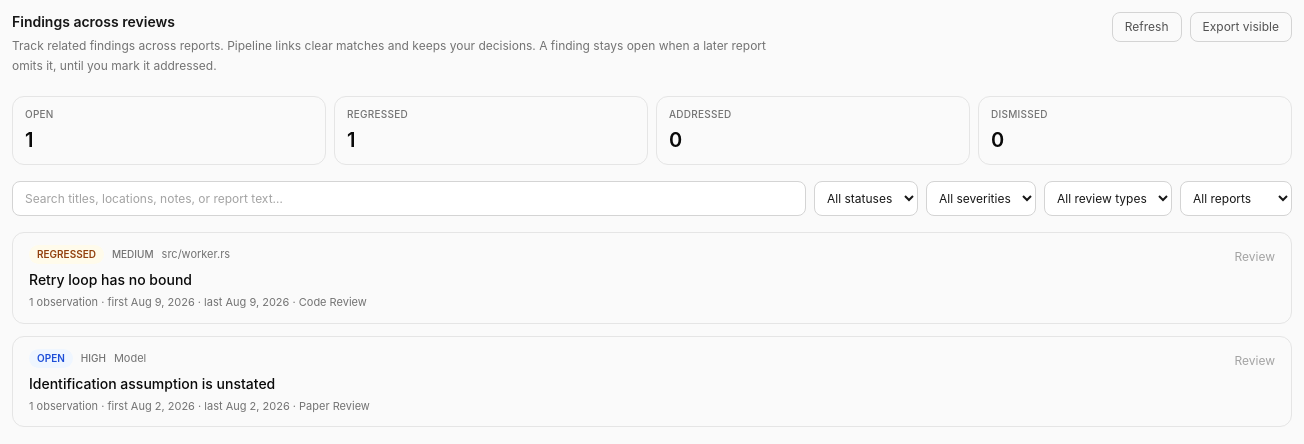
Test: ProjectIssueLedgerPanel › filters the ledger by workflow and revision
This screenshot has width=1304, height=444.
expect the heading "Identification assumption is unstated" is shown: met, box [29,374,275,392]
Select "Code Review" in the dropdown named "Issue review type filter" at [1108, 198], box [1044,181,1172,216]
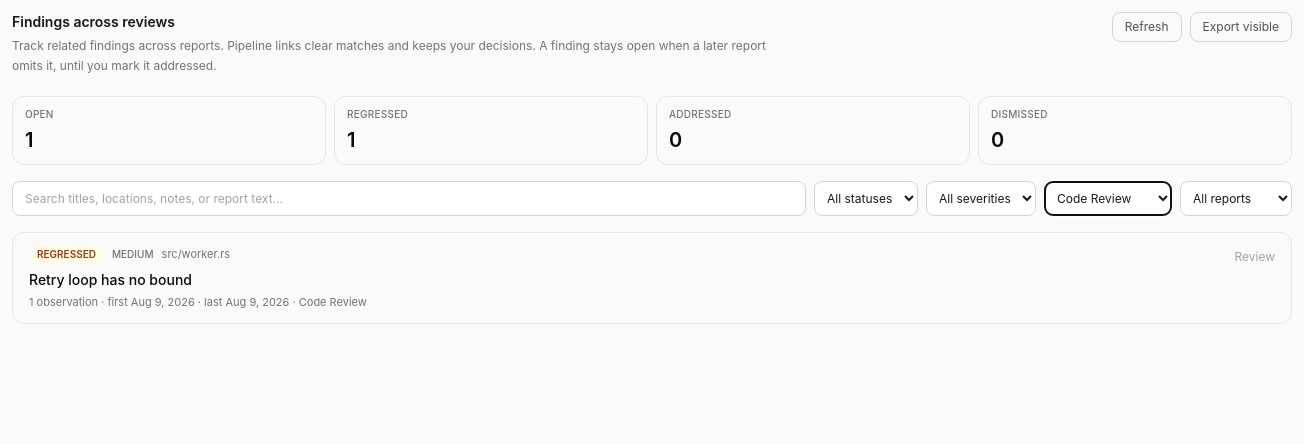
expect the heading "Retry loop has no bound" is shown: met, box [29,271,192,288]
expect the button "Identification assumption is unstated" is gone: met
Select "Paper review" in the dropdown named "Issue report filter" at [1236, 198], box [1180,181,1292,216]
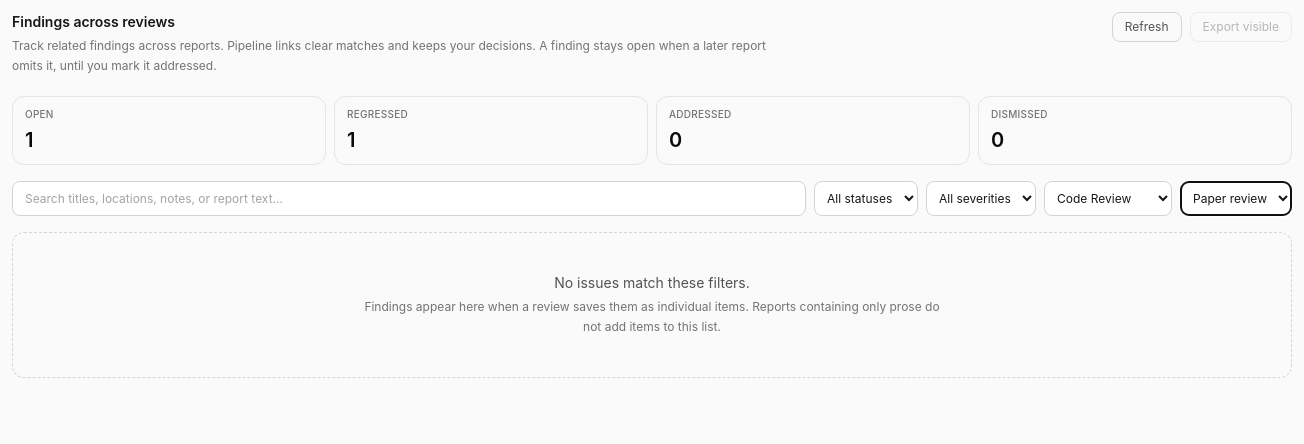
expect the text "No issues match these filters." is shown: met, box [554,274,750,291]
